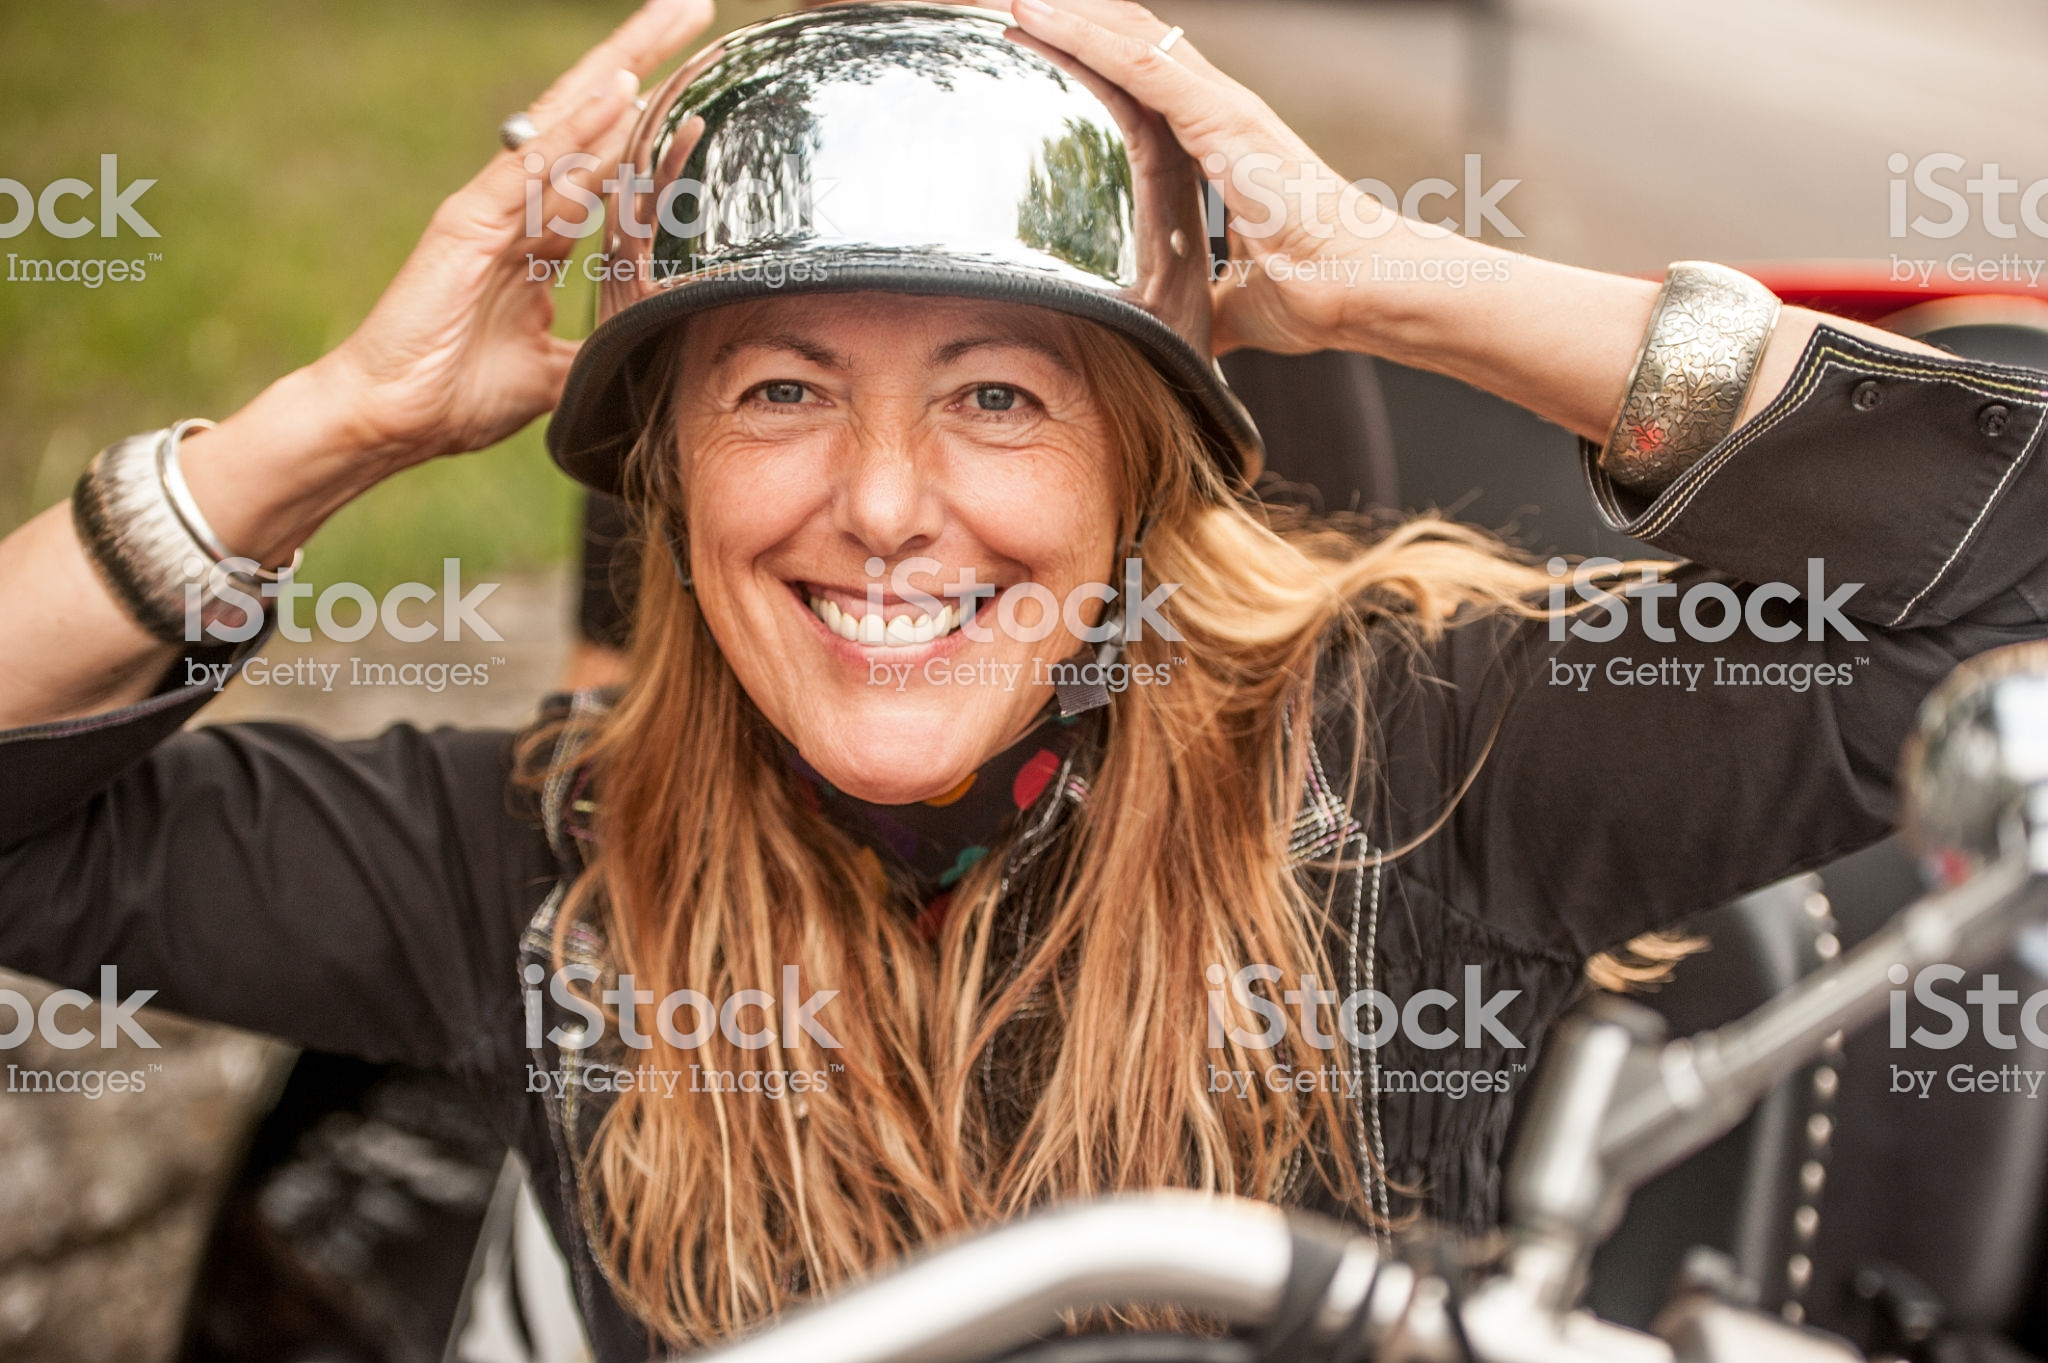helmet: (552, 30, 1294, 420)
